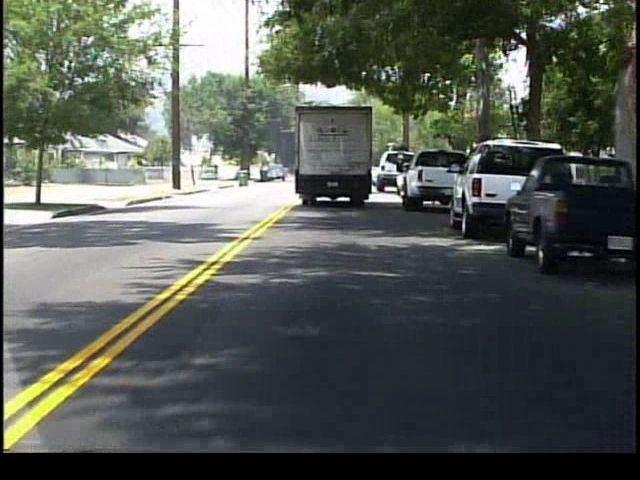person: (214, 163, 222, 182)
